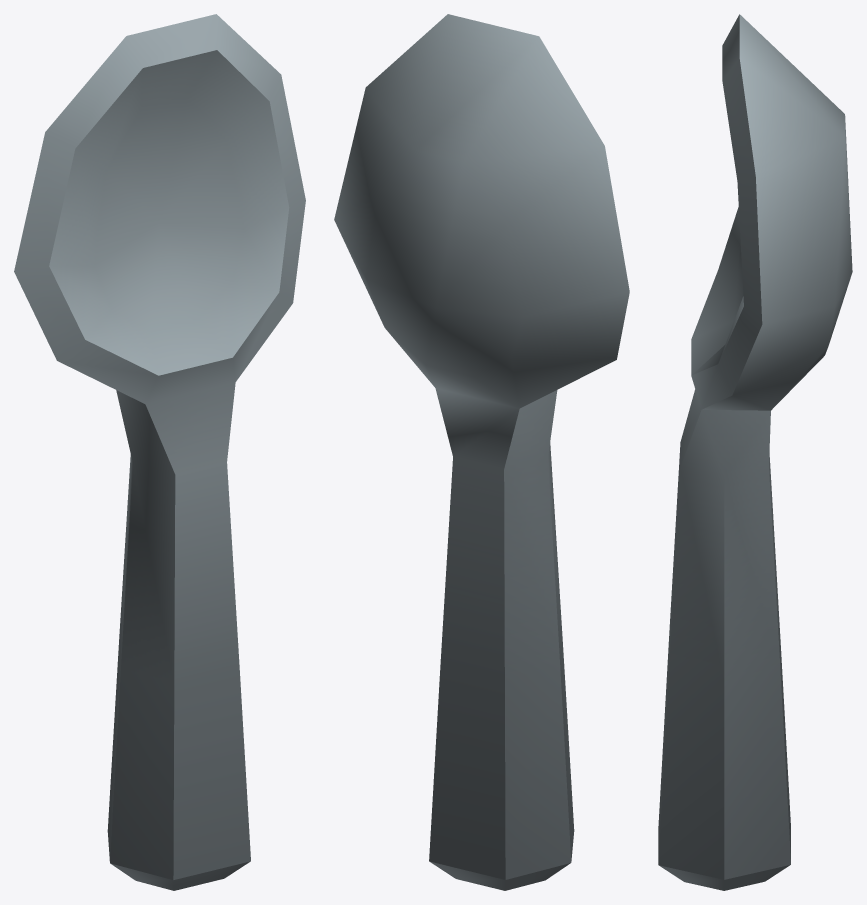
The model's file is spoon.obj.
The picture shows the model from 3 angles, left to right: view 1: azimuth 30°, elevation 25°; view 2: azimuth 150°, elevation 25°; view 3: azimuth 270°, elevation 25°; orthographic projection.
Parts seen in each view (by area): view 1: spoon_Torus.008; view 2: spoon_Torus.008; view 3: spoon_Torus.008.
Part boxes in pixels (box(x1,y1,x2,y2)): spoon_Torus.008: box(14, 14, 305, 890); spoon_Torus.008: box(334, 14, 629, 890); spoon_Torus.008: box(658, 14, 852, 890).
Size of the model in its own units: 0.3273 by 0.8995 by 0.1898.
1 material, 1 textured.
